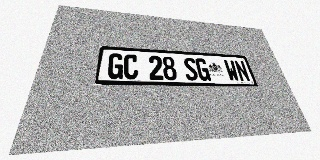2: (149, 55, 164, 80)
8: (162, 56, 177, 80)
C: (123, 54, 138, 79)
G: (107, 53, 124, 79), (195, 58, 211, 81)
N: (234, 60, 251, 82)
S: (183, 57, 199, 81)
W: (223, 60, 240, 82)
